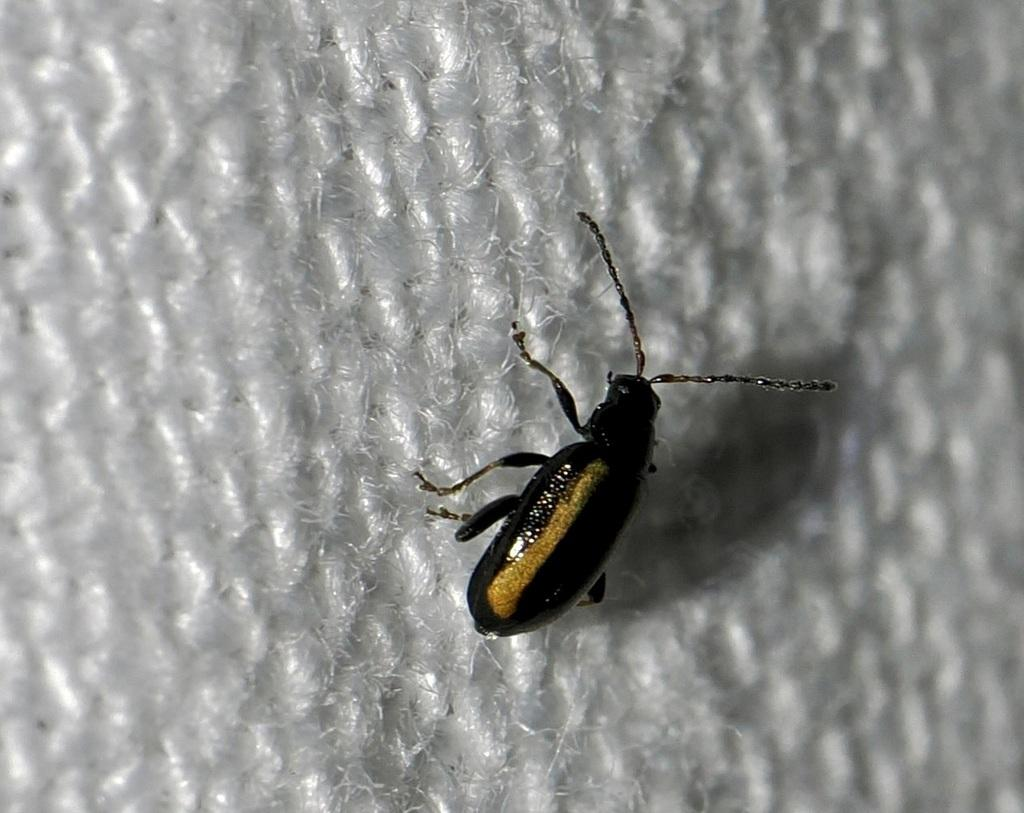flea_beetle: (365, 156, 862, 675)
